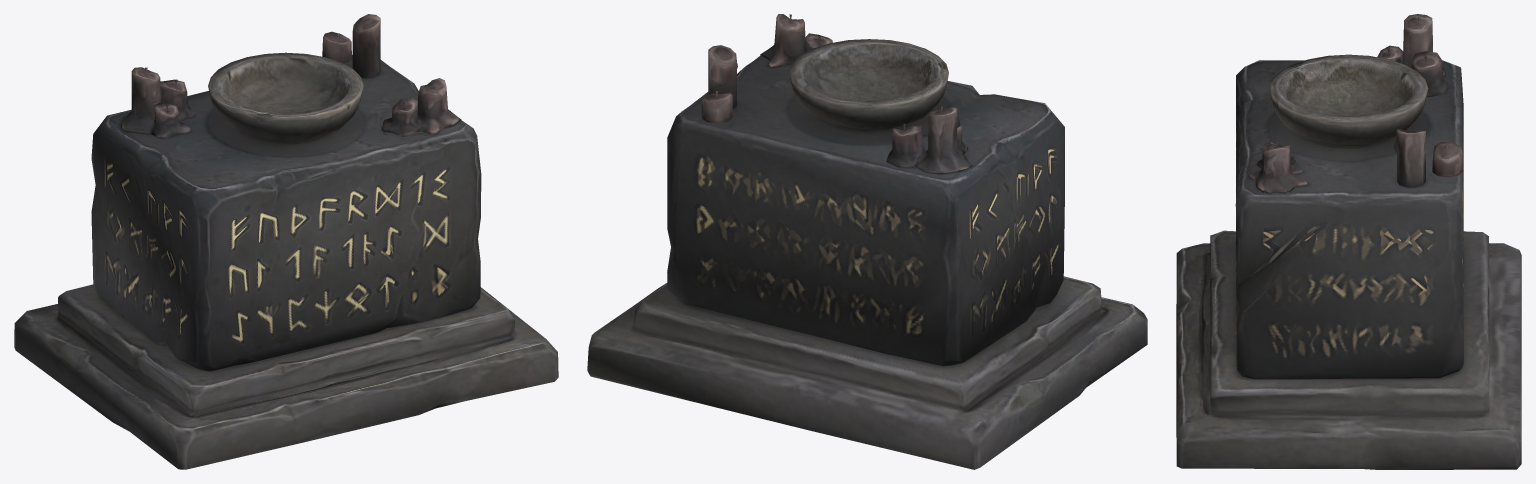
The model's file is altare.fbx.
The picture shows the model from 3 angles, left to right: view 1: azimuth 30°, elevation 25°; view 2: azimuth 150°, elevation 25°; view 3: azimuth 270°, elevation 25°; orthographic projection. The views are drawn at different scales.
Parts seen in each view (by area): view 1: tripo_node_4d4b399e; view 2: tripo_node_4d4b399e; view 3: tripo_node_4d4b399e.
Part boxes in pixels (<box>): tripo_node_4d4b399e: <box>14,14,558,469</box>; tripo_node_4d4b399e: <box>587,14,1147,469</box>; tripo_node_4d4b399e: <box>1176,14,1521,469</box>.
Size of the model in its own units: 0.9995 by 0.7495 by 0.7661.
Materials: 1 (1 with a texture image).
